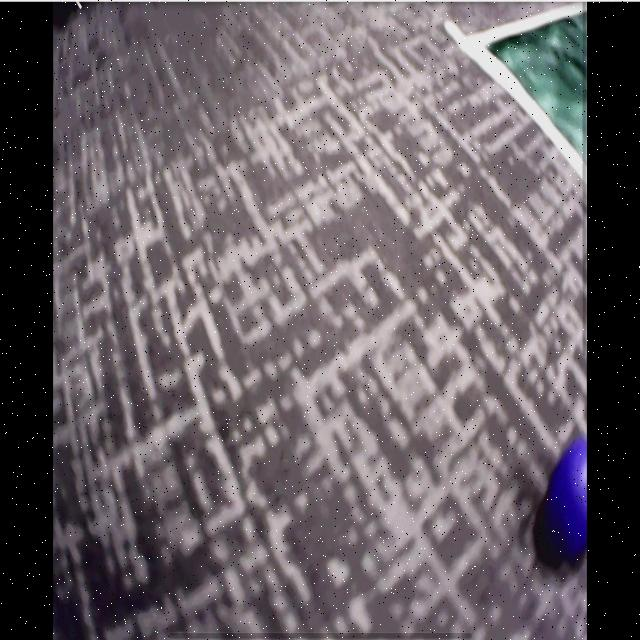ball: (556, 442, 591, 563)
